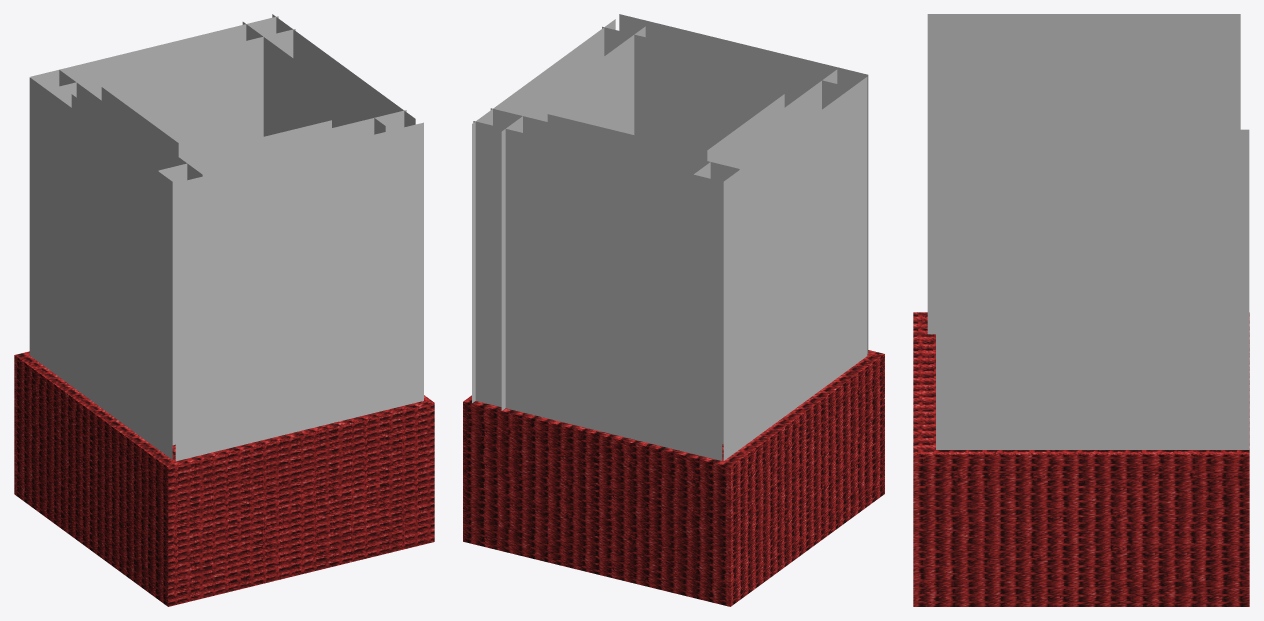
The model's file is Beans.fbx.
3 renders of one model, left to right at view 1: azimuth 30°, elevation 25°; view 2: azimuth 150°, elevation 25°; view 3: azimuth 270°, elevation 25°, orthographic. The views are drawn at different scales.
Parts seen in each view (by area): view 1: Cube, Plane.021, Plane.023, Plane.045, Plane.047, Plane.015, Plane.041, Plane.039, Plane.017, Plane.030, Plane.006, Plane.024 (+26 smaller); view 2: Cube, Plane.009, Plane.011, Plane.033, Plane.039, Plane.015, Plane.041, Plane.017, Plane.035, Plane.042, Plane.044, Plane.018 (+27 smaller); view 3: Cube, Plane.003, Plane.029, Plane.027, Plane.005, Plane.038, Plane.036, Plane.016, Plane.012, Plane.002, Plane.039, Plane.040 (+11 smaller).
Boxes of the visible parts, x1=… form: Cube: x1=14, y1=351, x2=434, y2=606; Plane.021: x1=302, y1=122, x2=423, y2=425; Plane.023: x1=176, y1=155, x2=290, y2=460; Plane.045: x1=290, y1=137, x2=376, y2=433; Plane.047: x1=175, y1=167, x2=268, y2=461; Plane.015: x1=111, y1=138, x2=172, y2=459; Plane.041: x1=29, y1=77, x2=86, y2=395; Plane.039: x1=96, y1=126, x2=149, y2=441; Plane.017: x1=49, y1=93, x2=95, y2=403; Plane.030: x1=161, y1=47, x2=255, y2=163; Plane.006: x1=122, y1=58, x2=210, y2=162; Plane.024: x1=266, y1=53, x2=333, y2=135; Cube: x1=463, y1=350, x2=884, y2=606; Plane.009: x1=588, y1=149, x2=722, y2=460; Plane.011: x1=473, y1=121, x2=588, y2=428; Plane.033: x1=592, y1=153, x2=722, y2=460; Plane.039: x1=790, y1=114, x2=844, y2=412; Plane.015: x1=809, y1=77, x2=867, y2=373; Plane.041: x1=723, y1=162, x2=775, y2=460; Plane.017: x1=731, y1=133, x2=789, y2=424; Plane.035: x1=483, y1=126, x2=588, y2=428; Plane.042: x1=660, y1=49, x2=747, y2=160; Plane.044: x1=602, y1=26, x2=681, y2=141; Plane.018: x1=713, y1=66, x2=793, y2=142; Cube: x1=913, y1=312, x2=1249, y2=606; Plane.003: x1=1086, y1=145, x2=1249, y2=449; Plane.029: x1=936, y1=145, x2=1066, y2=449; Plane.027: x1=1081, y1=145, x2=1210, y2=449; Plane.005: x1=942, y1=145, x2=1104, y2=449; Plane.038: x1=927, y1=30, x2=1045, y2=334; Plane.036: x1=1011, y1=37, x2=1131, y2=121; Plane.016: x1=1179, y1=30, x2=1240, y2=129; Plane.012: x1=1106, y1=37, x2=1179, y2=129; Plane.002: x1=1098, y1=129, x2=1249, y2=145; Plane.039: x1=927, y1=14, x2=1051, y2=29; Plane.040: x1=1072, y1=30, x2=1191, y2=94.
Size of the model in its own units: 200 by 300 by 200.
